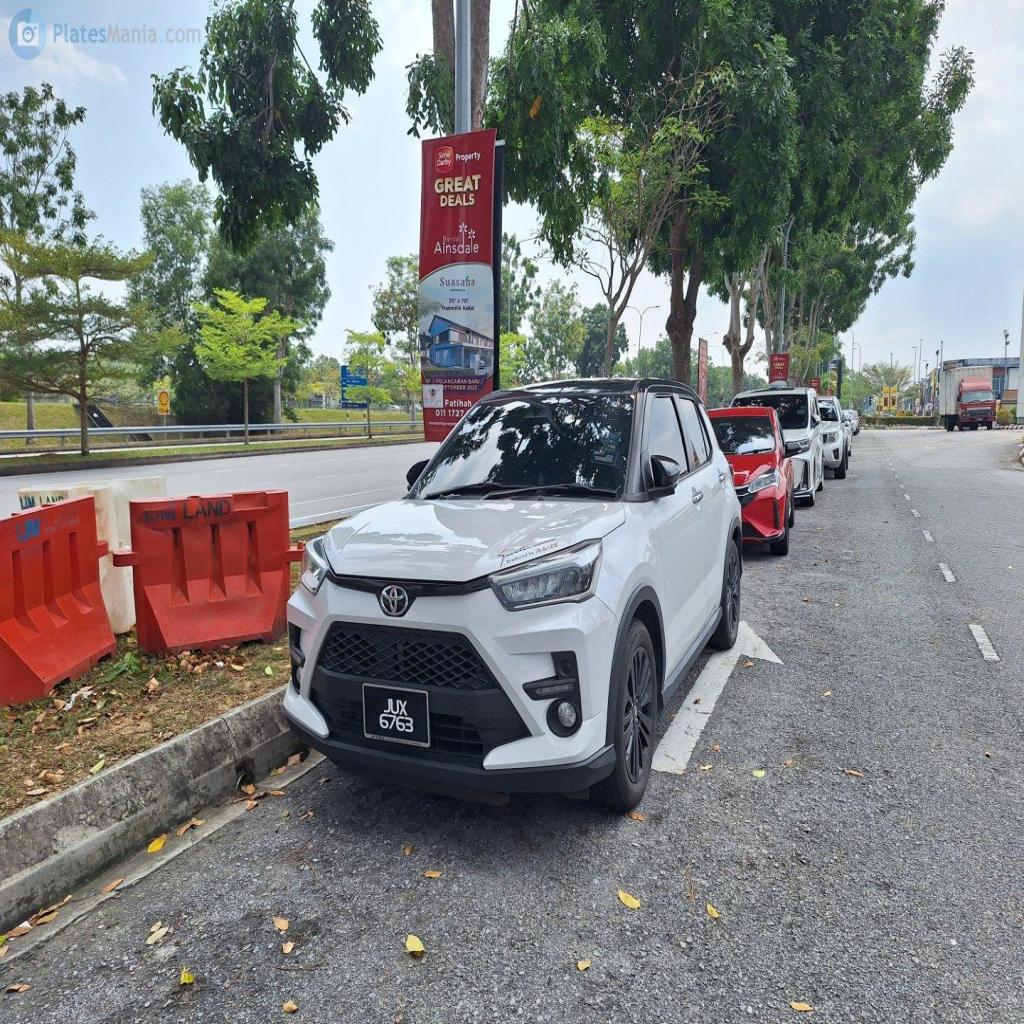car: (283, 378, 742, 808)
car plate: (363, 683, 428, 745)
